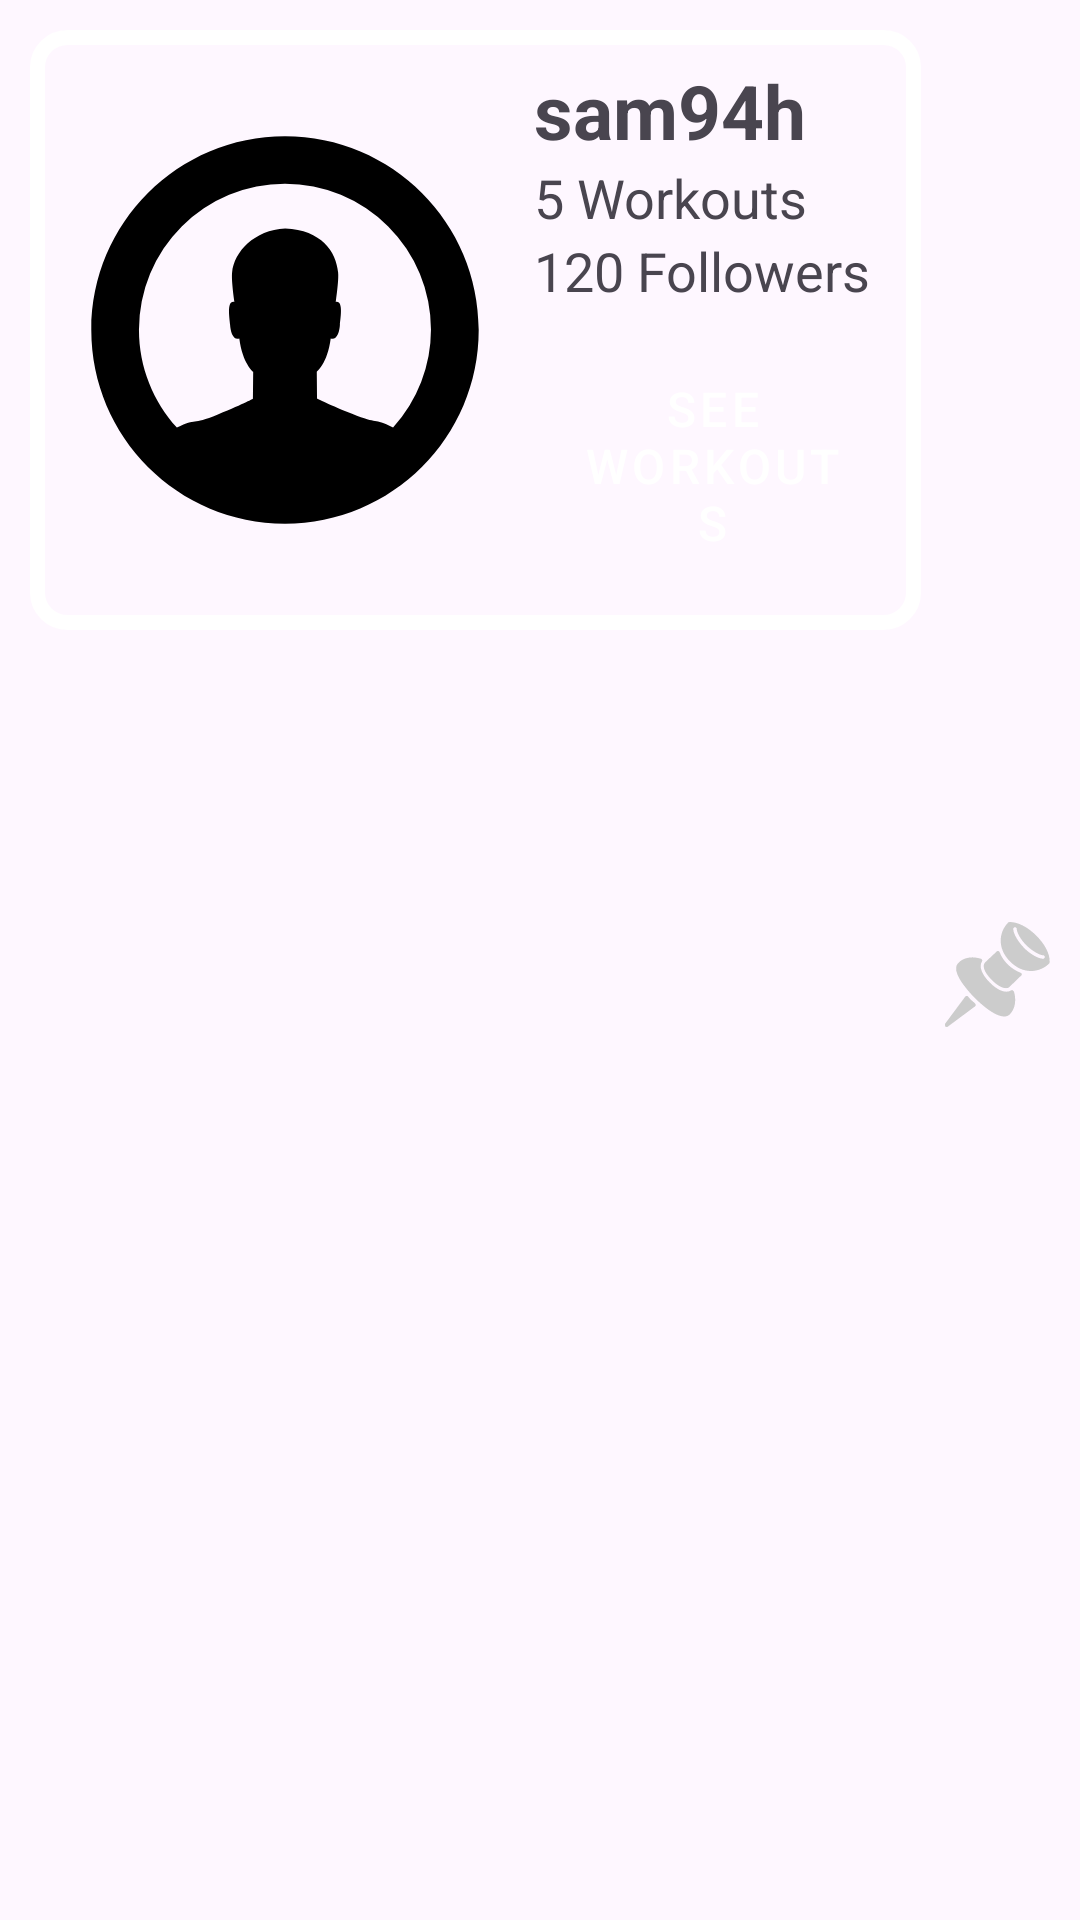

Where icons sit on this 1080px×1920px app screen, as [x1,y1,x2,y2]:
pin unpinned: [945,922,1050,1027]
